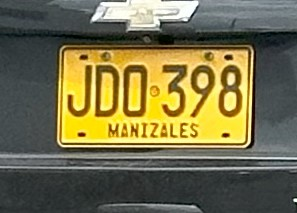number plate: (57, 45, 253, 147)
